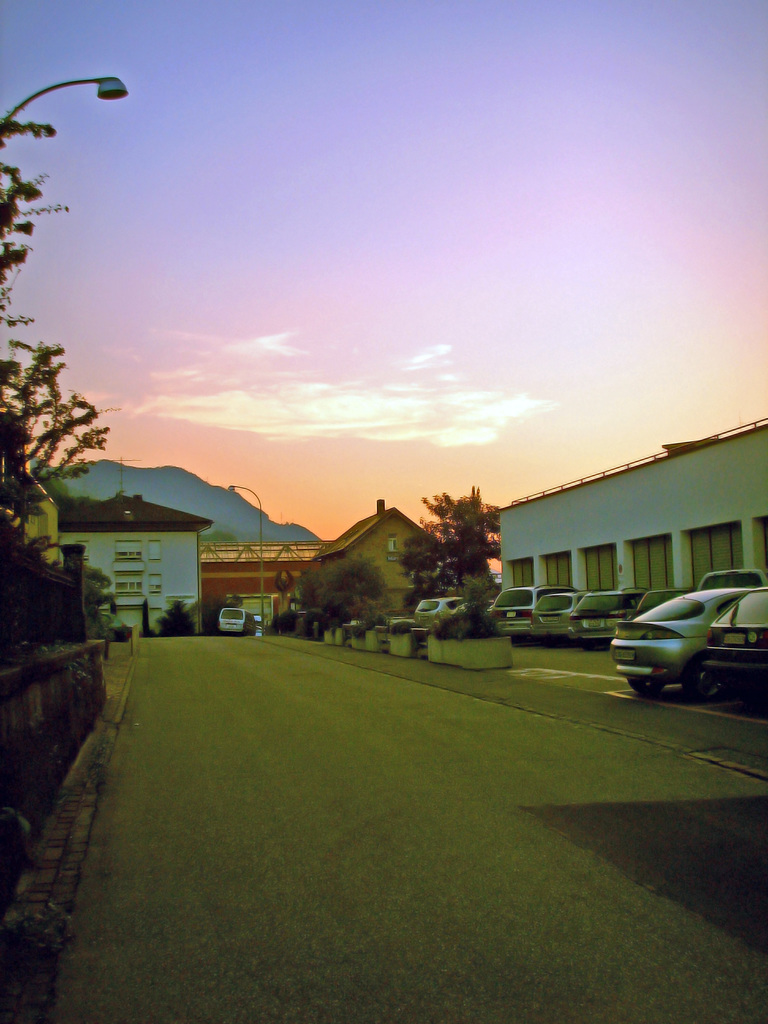Car: (414, 568, 767, 707), (213, 607, 255, 633)
